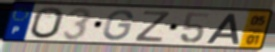3: (61, 5, 95, 43)
5: (179, 11, 211, 44)
A: (204, 13, 241, 46)
G: (101, 9, 135, 42)
O: (29, 6, 66, 40)
Z: (133, 9, 173, 43)
